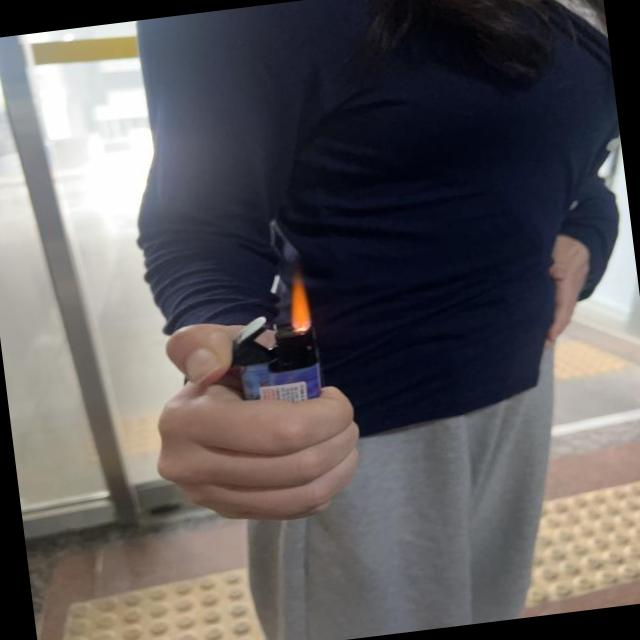Fire: (284, 269, 316, 335)
